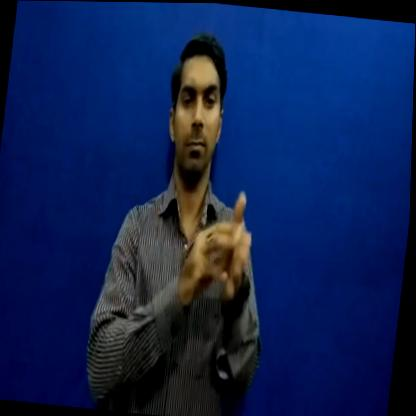Expensive: (138, 178, 282, 388)
